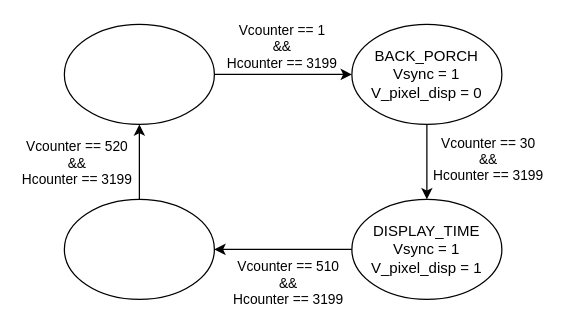
Some shapes in this 564 by 329 pixel diagram are drawn without their labels. The shapes that lost their labels are listed below. From the top down, each one's centre as x and y in pixels, then its label:
At [138,73]: "PULSE Vsync = 0 V_pixel_disp = 0".
At [138,248]: "FRONT_PORCH Vsync = 1 V_pixel_disp = 0".
